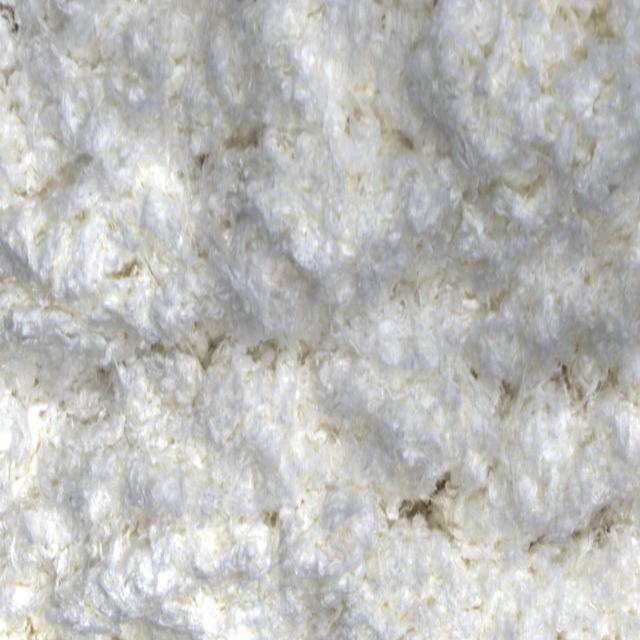dust: (392, 483, 454, 539)
